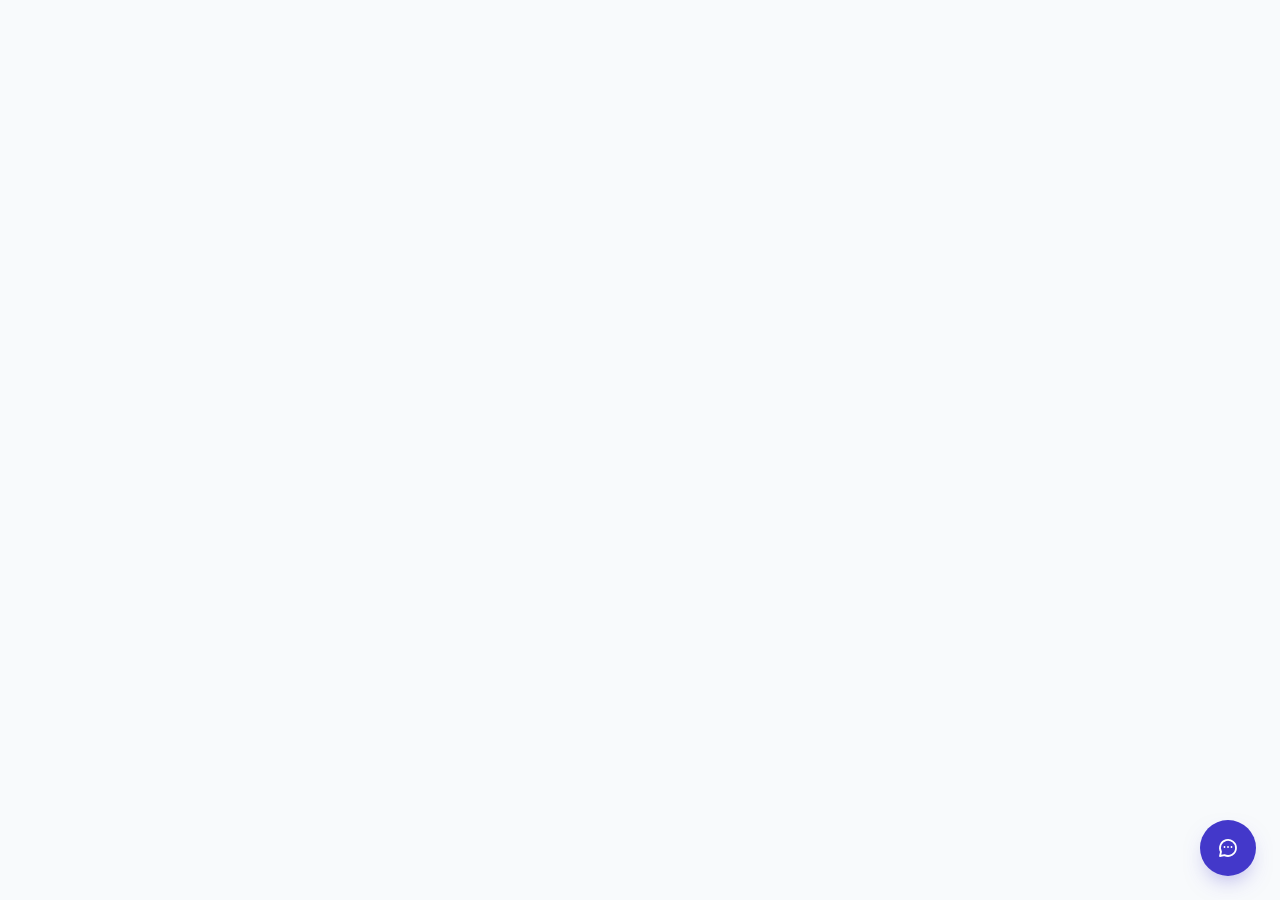
Scenario: answers are rendered as plain text, never as HTML
Click the button named "Ask PortfolioAI about Irfan's work".
click(1228, 848)  # box 1200,820 -> 1256,876
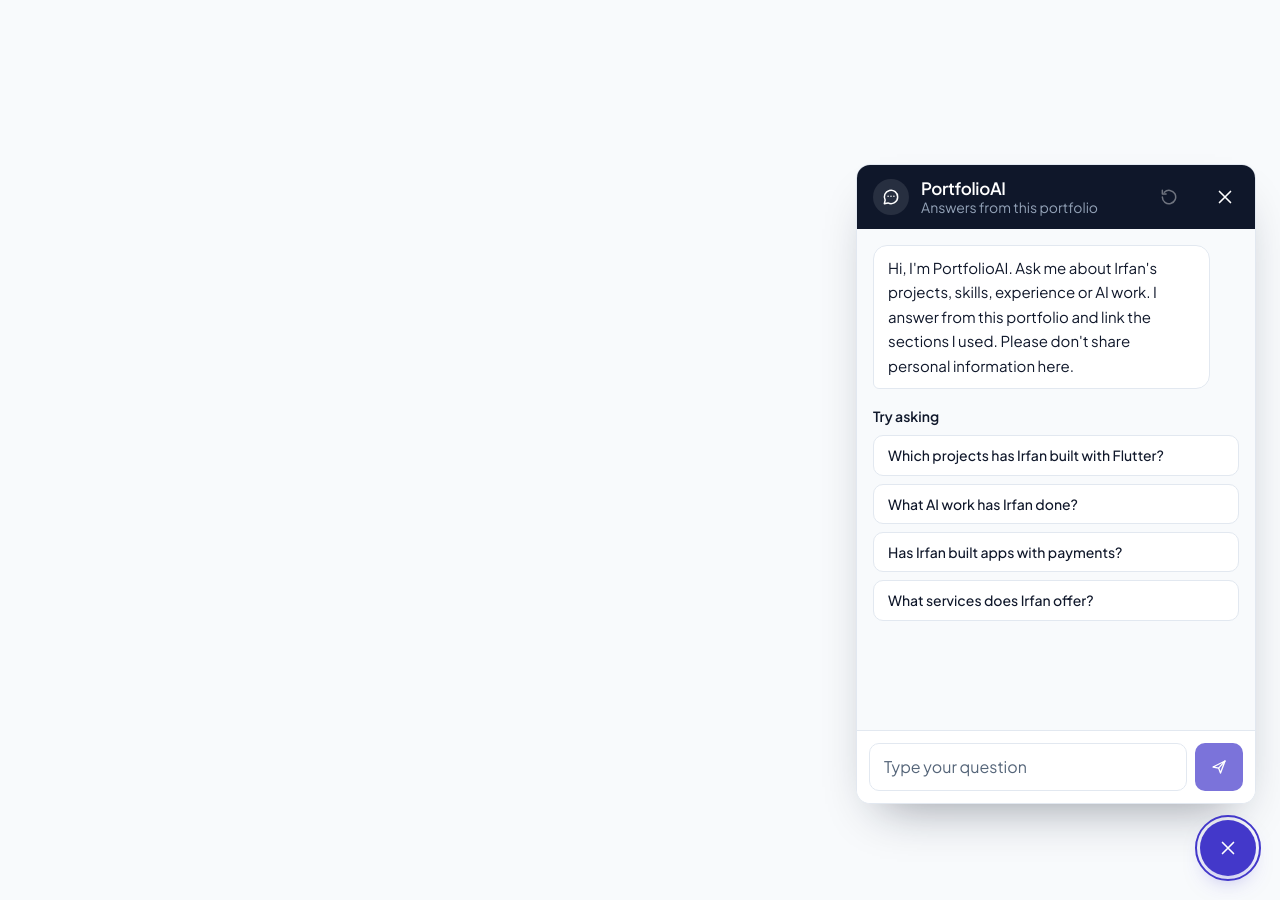
Type "Question" into the text box labelled "your question".
click(1028, 767); type("Question")  # box 869,743 -> 1187,791
Then press Enter
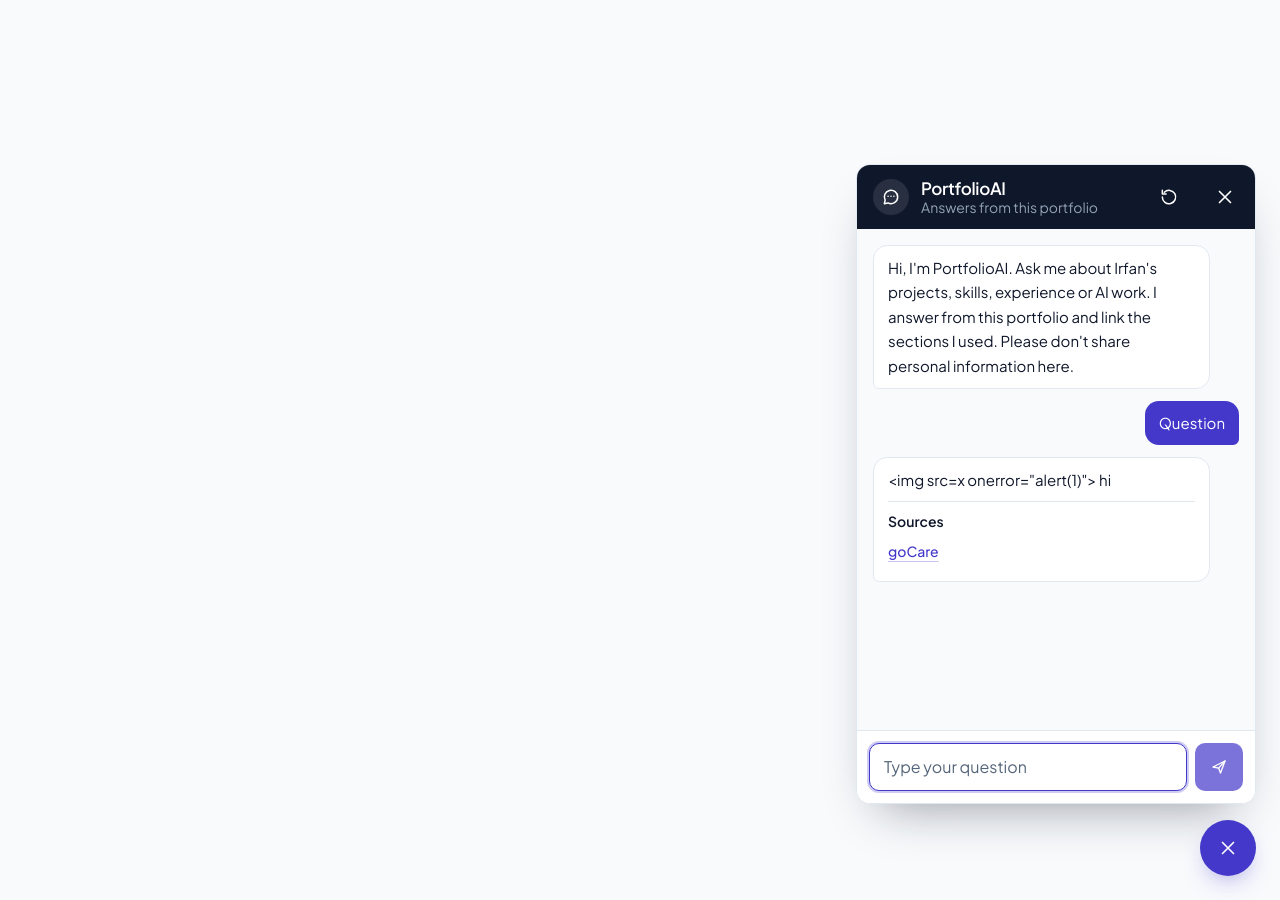
Result: the text "<img src=x onerror=\"alert(1)\"> hi" is shown at 887,469 -> 1111,489
